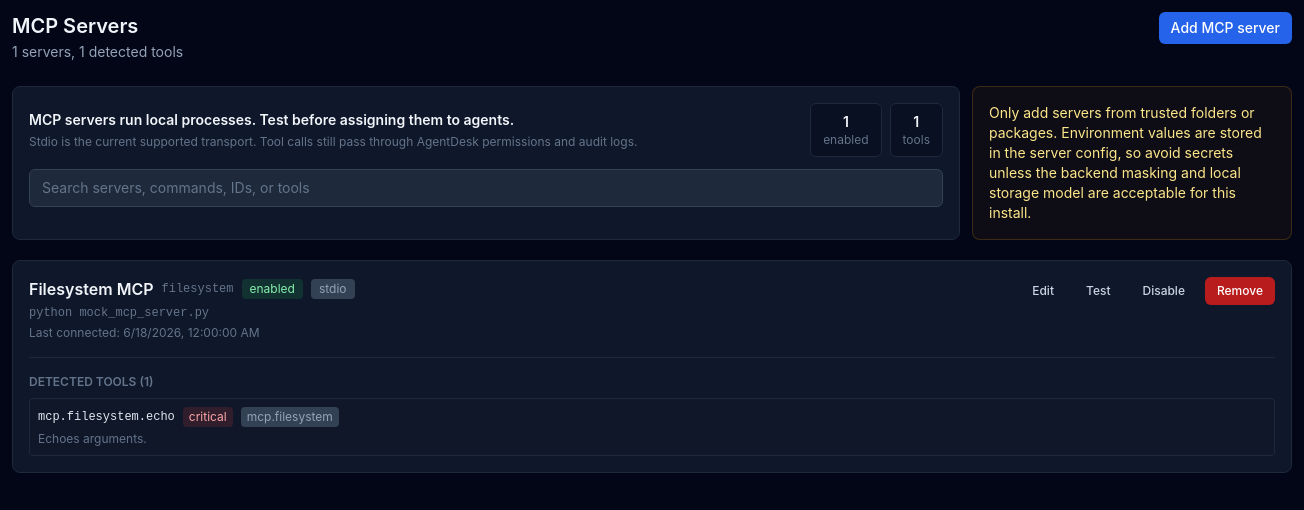
MCP Servers page › tests an MCP server connection
Step 1. Click the button "Test" → coordinates (1098, 291), box [1074,277,1122,305]
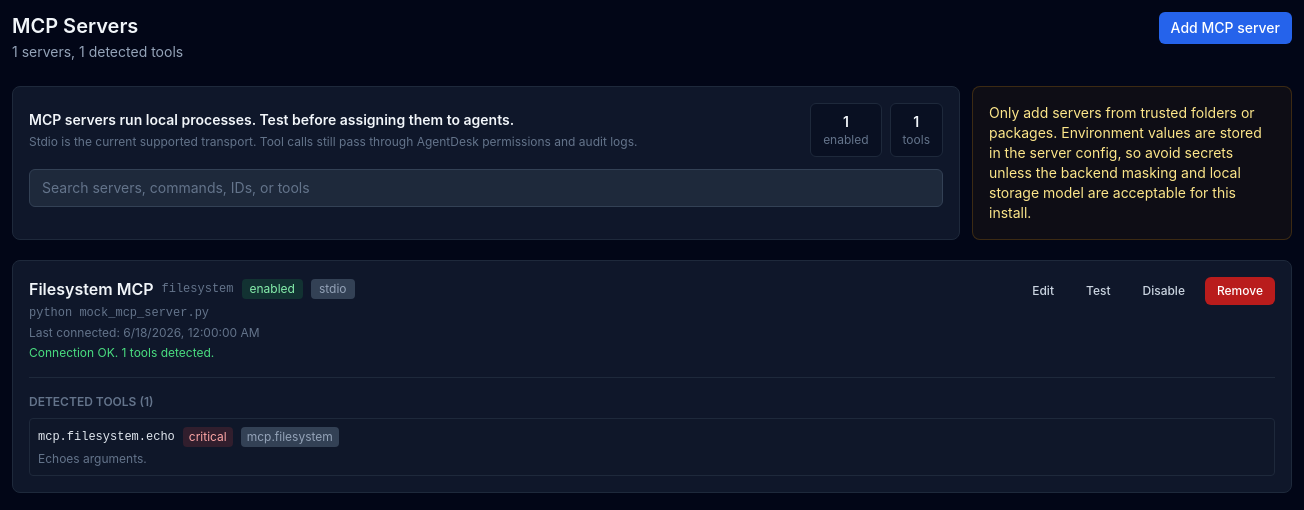
Check: the text "Connection OK. 1 tools detected." is shown, box [29,345,214,360]
